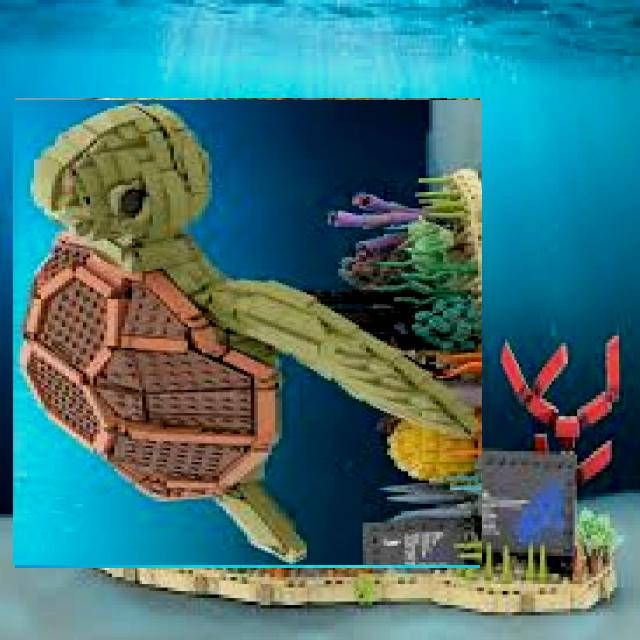Sea turtle: (14, 99, 481, 567)
